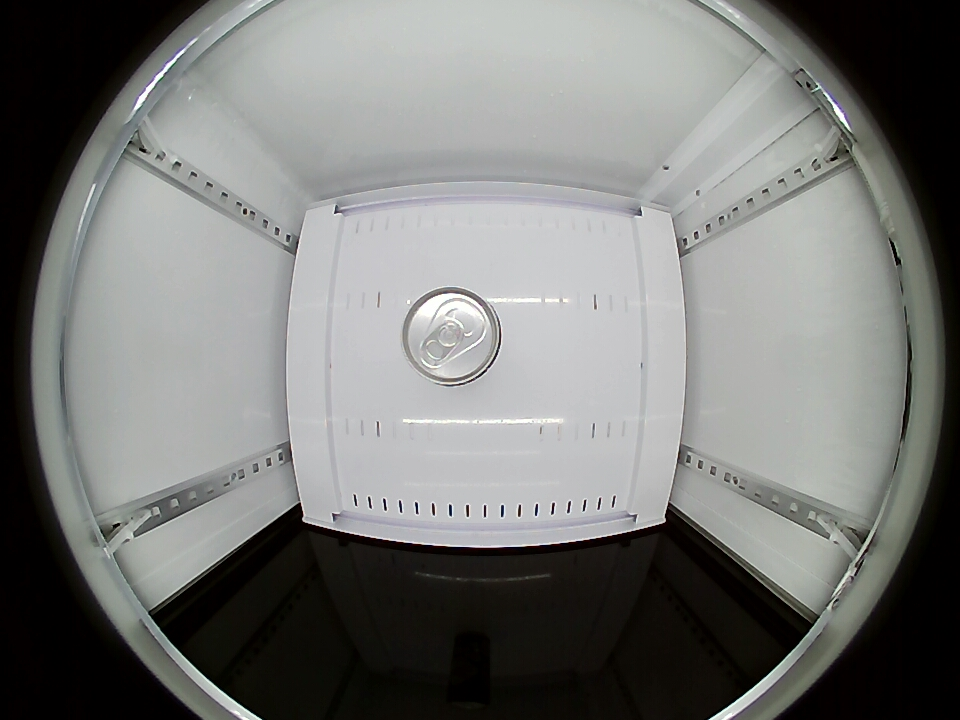qingdaowangzi-1: (401, 287, 503, 387)
